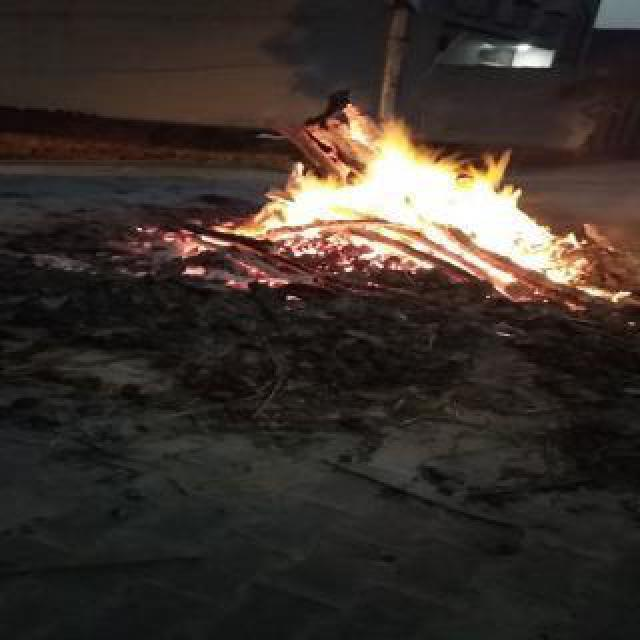Fire: (222, 102, 620, 292)
